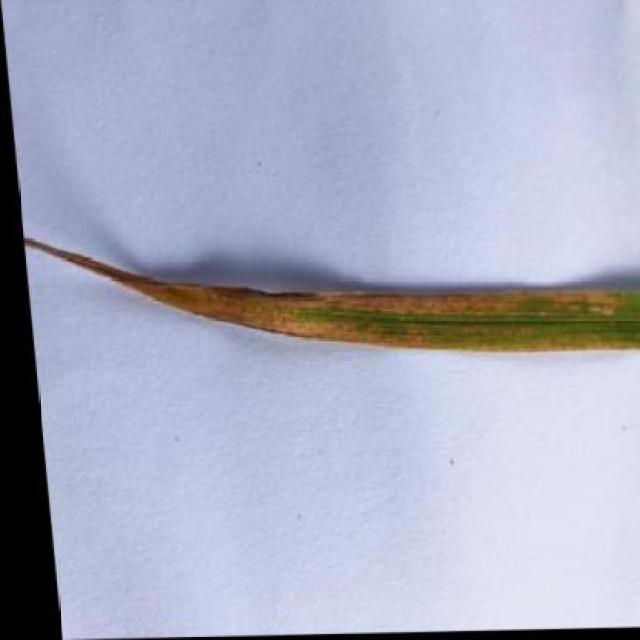Rice False Smut: (29, 244, 640, 355)
